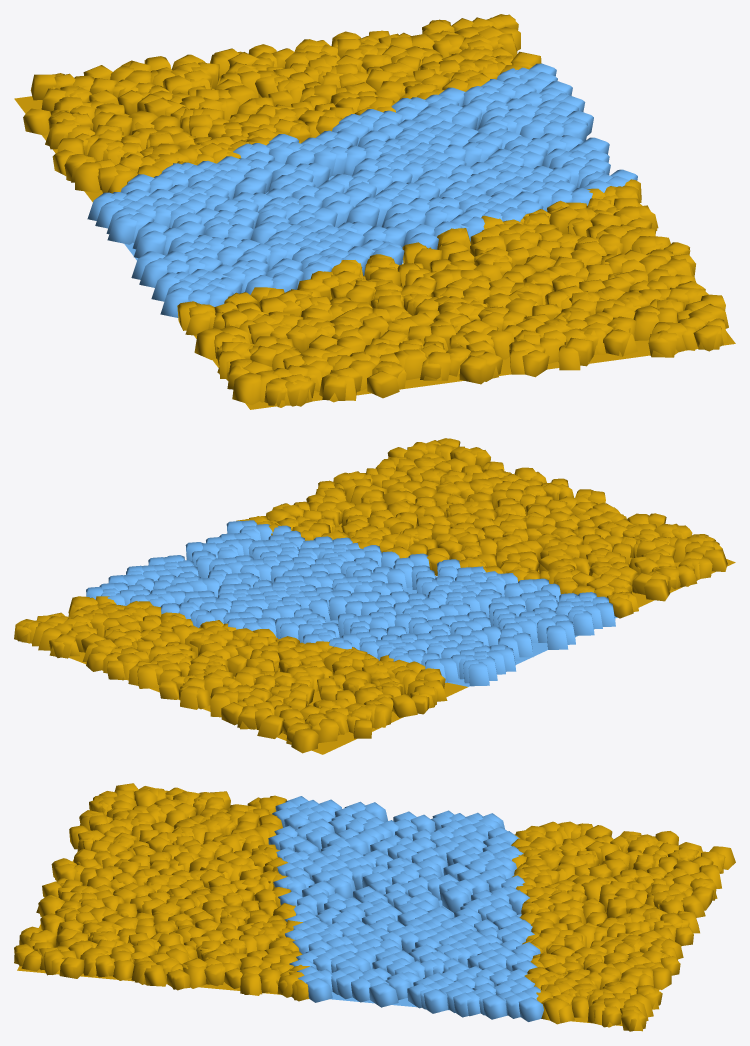
The model's file is Kitty house.fbx.
3 renders of one model, top to bottom at view 1: azimuth 30°, elevation 25°; view 2: azimuth 150°, elevation 25°; view 3: azimuth 270°, elevation 25°, orthographic. The views are drawn at different scales.
Parts seen in each view (by area): view 1: RugBlue.002; view 2: RugBlue.002; view 3: RugBlue.002.
Boxes of the visible parts, left/top/right/bottom form: RugBlue.002: left=14, top=14, right=735, bottom=409; RugBlue.002: left=14, top=438, right=735, bottom=754; RugBlue.002: left=14, top=783, right=735, bottom=1031.
Size of the model in its own units: 265 by 9.14 by 342.
